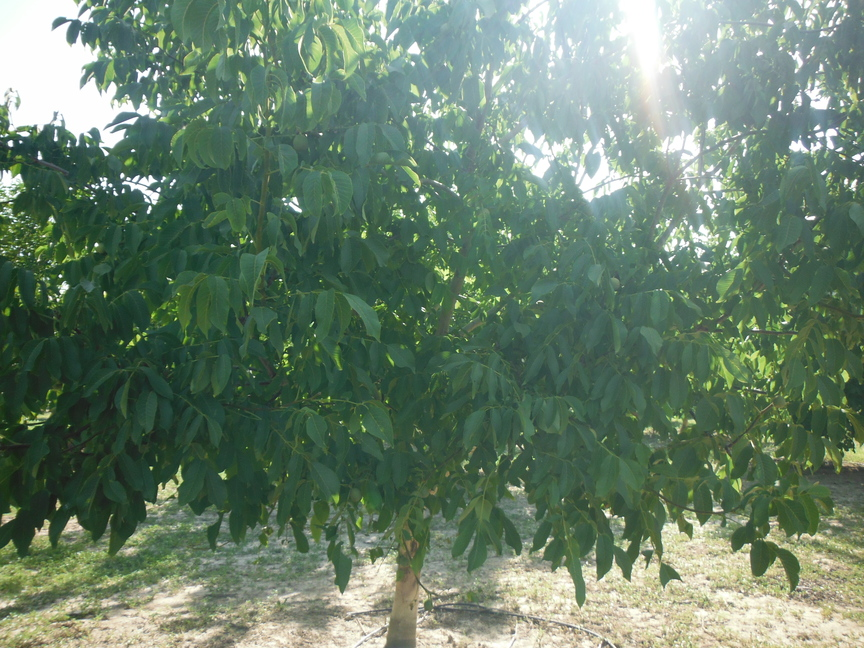walnut: (291, 131, 312, 155), (90, 237, 110, 257), (346, 485, 366, 505), (772, 392, 789, 411), (607, 275, 623, 293), (587, 425, 598, 442)
